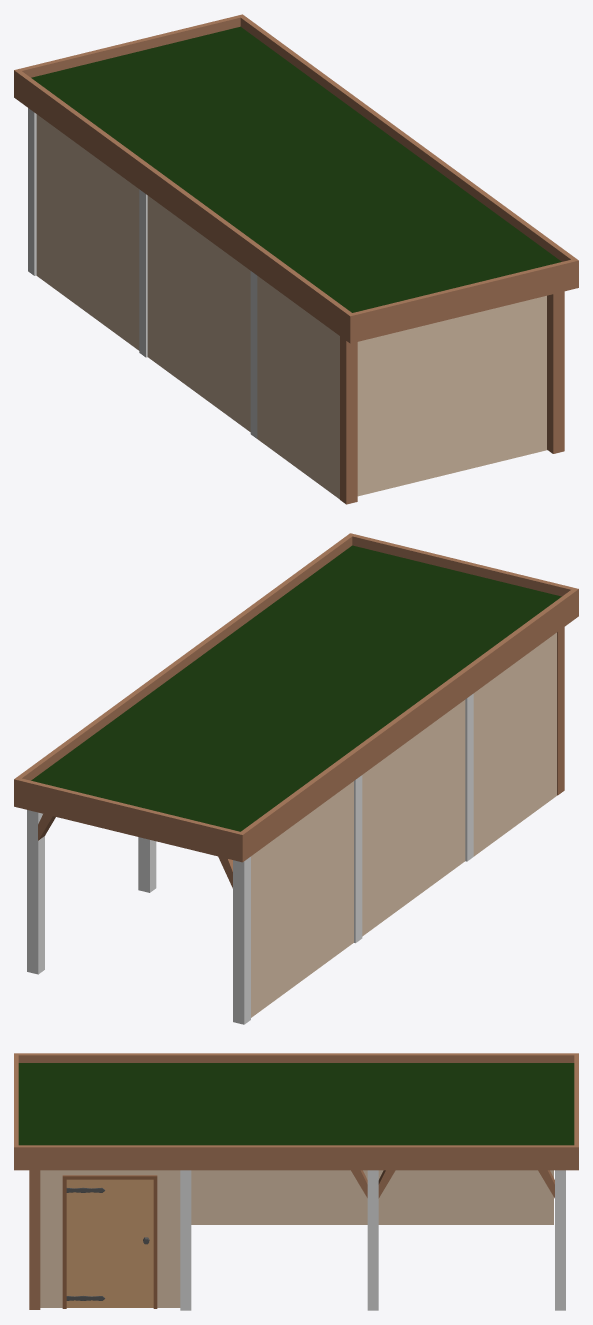
Rendered from Overkapping.fbx.
The picture shows the model from 3 angles, top to bottom: view 1: azimuth 30°, elevation 25°; view 2: azimuth 150°, elevation 25°; view 3: azimuth 270°, elevation 25°; orthographic projection. The views are drawn at different scales.
Parts seen in each view (by area): view 1: Plane, Cube.001, Cube.002, Cube; view 2: Plane, Cube.001, Cube, Cube.002; view 3: Plane, Cube.001, Cube, Cube.002, Cube.003, Plane.001.
Part boxes in pixels (left/top/right/bottom): Plane: left=14, top=14, right=578, bottom=343; Cube.001: left=36, top=114, right=547, bottom=499; Cube.002: left=340, top=291, right=564, bottom=504; Cube: left=28, top=108, right=257, bottom=438; Plane: left=14, top=533, right=578, bottom=862; Cube.001: left=251, top=632, right=557, bottom=1017; Cube: left=27, top=693, right=473, bottom=1024; Cube.002: left=557, top=627, right=564, bottom=795; Plane: left=14, top=1053, right=578, bottom=1170; Cube.001: left=40, top=1170, right=553, bottom=1308; Cube: left=180, top=1170, right=565, bottom=1310; Cube.002: left=29, top=1170, right=40, bottom=1309; Cube.003: left=351, top=1170, right=554, bottom=1198; Plane.001: left=66, top=1187, right=105, bottom=1300.
Size of the model in its own units: 1183 by 973 by 3012.
